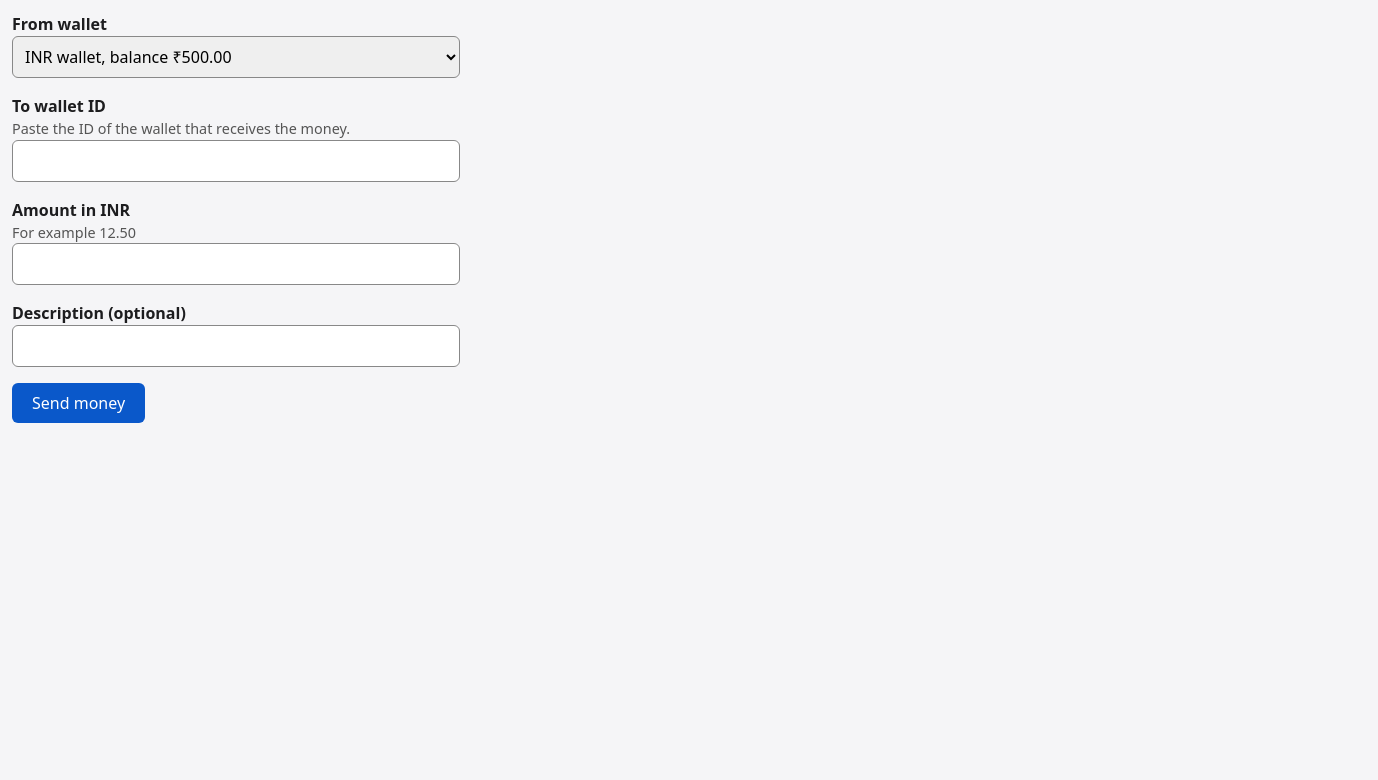
Test: TransferForm › reuses the Idempotency-Key when retrying after a network failure, and uses a new one after an answer
The width and height of the screenshot is (1378, 780).
Later steps or results of the test are not shown.
In the field labelled "To wallet ID": (236,161) [12,140,460,182], type "22222222-2222-4222-8222-222222222222"
In the field labelled "Amount in INR": (236,264) [12,243,460,285], type "12.50"
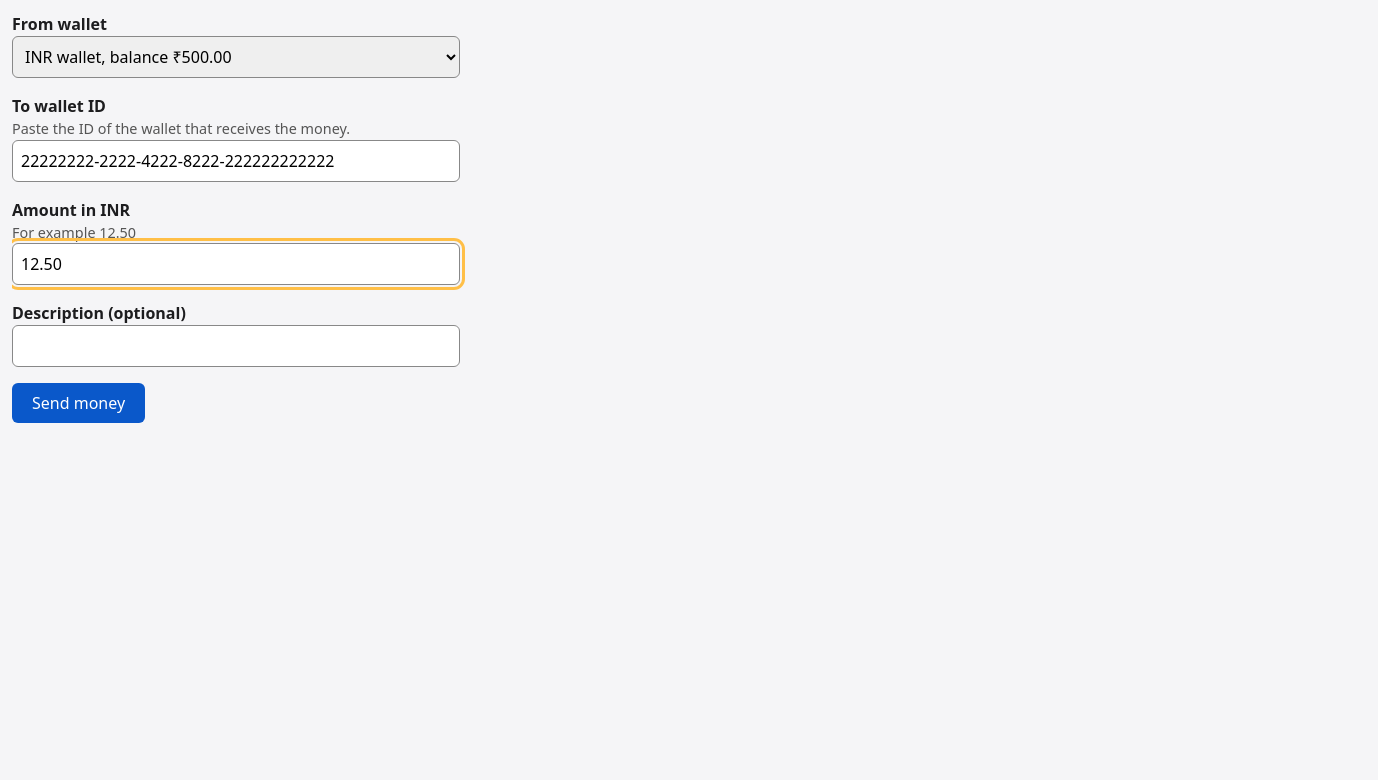
Click the button "Send money": (79,403) [12,383,145,423]
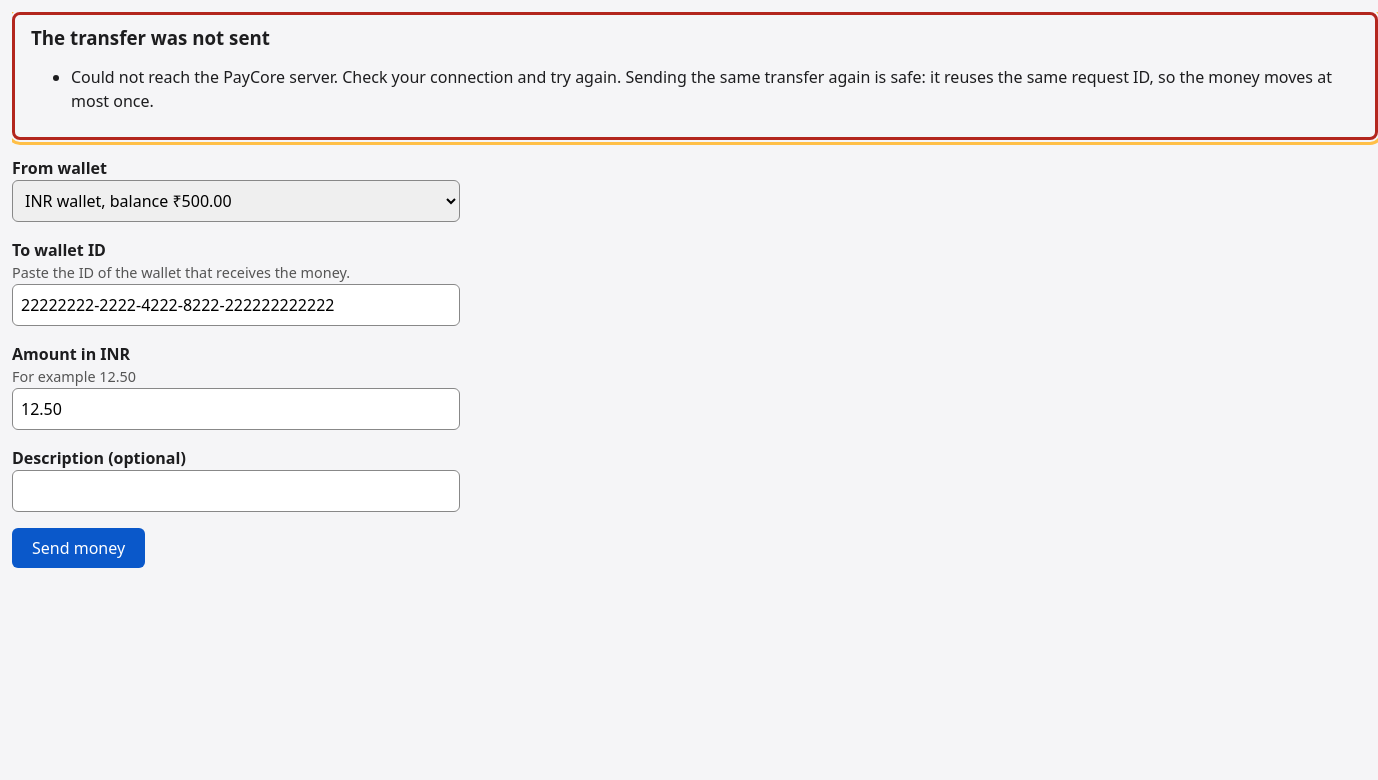
Expected: the message shows "Sending the same transfer again is safe", [71,66,1332,112]
Click the button "Send money": (79,548) [12,528,145,568]
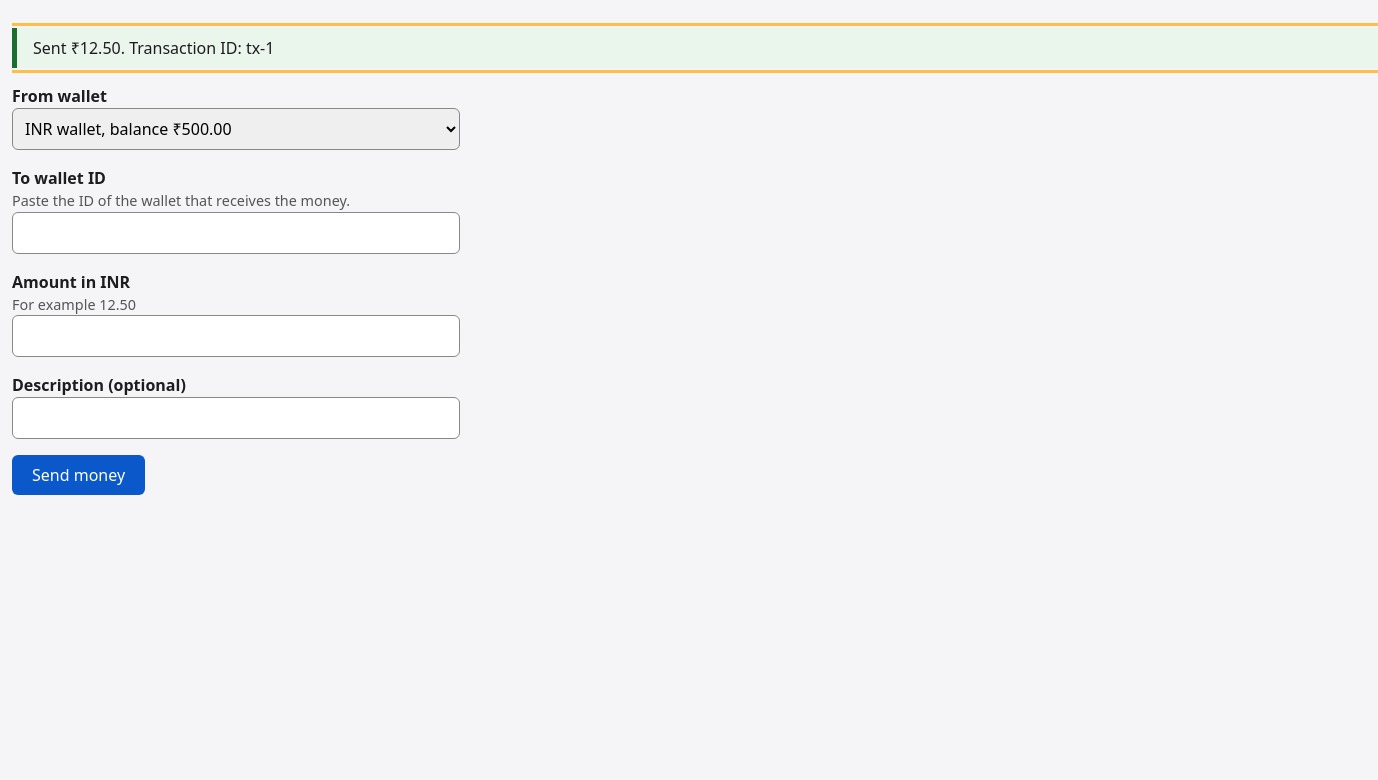
Expected: the message "Sent ₹12.50. Transaction ID: tx-1" is shown, [12,28,1377,68]
In the field labelled "To wallet ID": (236,233) [12,212,460,254], type "22222222-2222-4222-8222-222222222222"
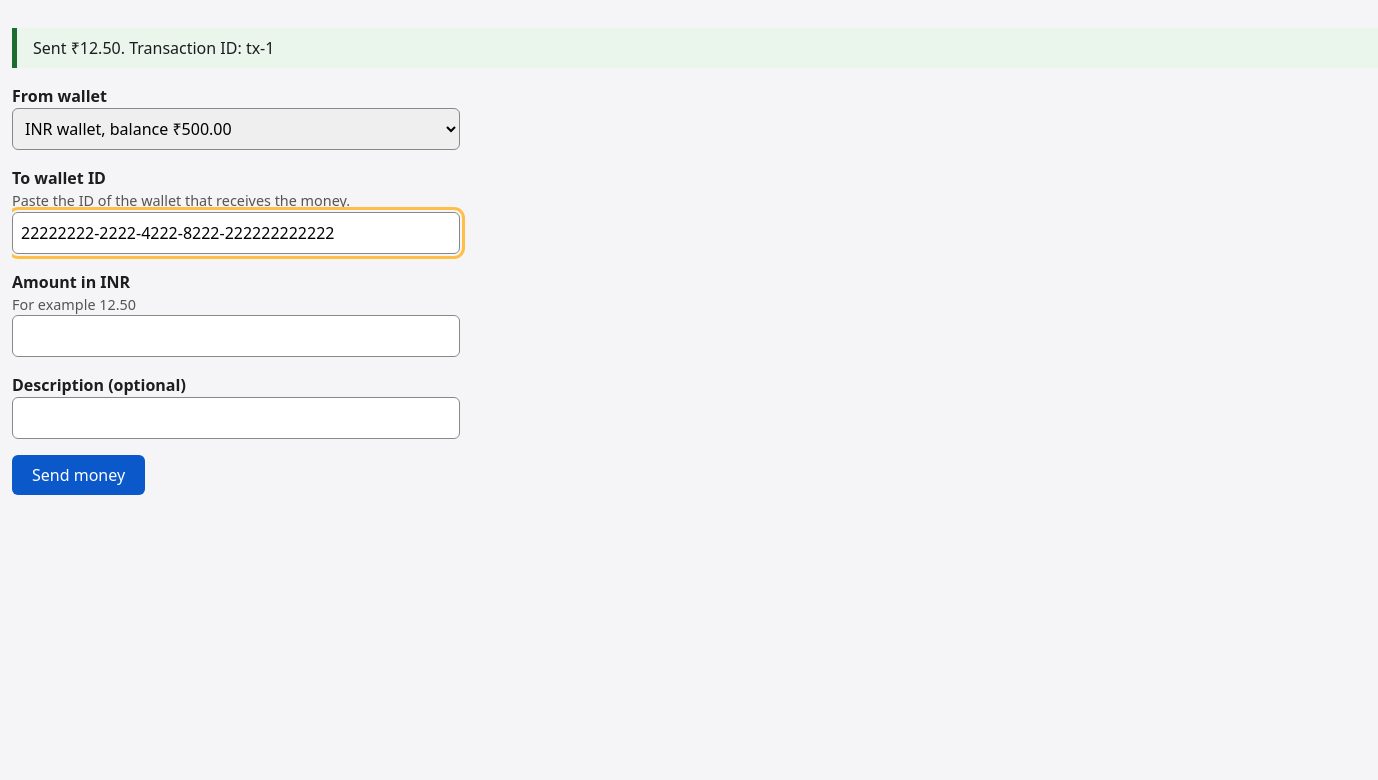
In the field labelled "Amount in INR": (236,336) [12,315,460,357], type "99"
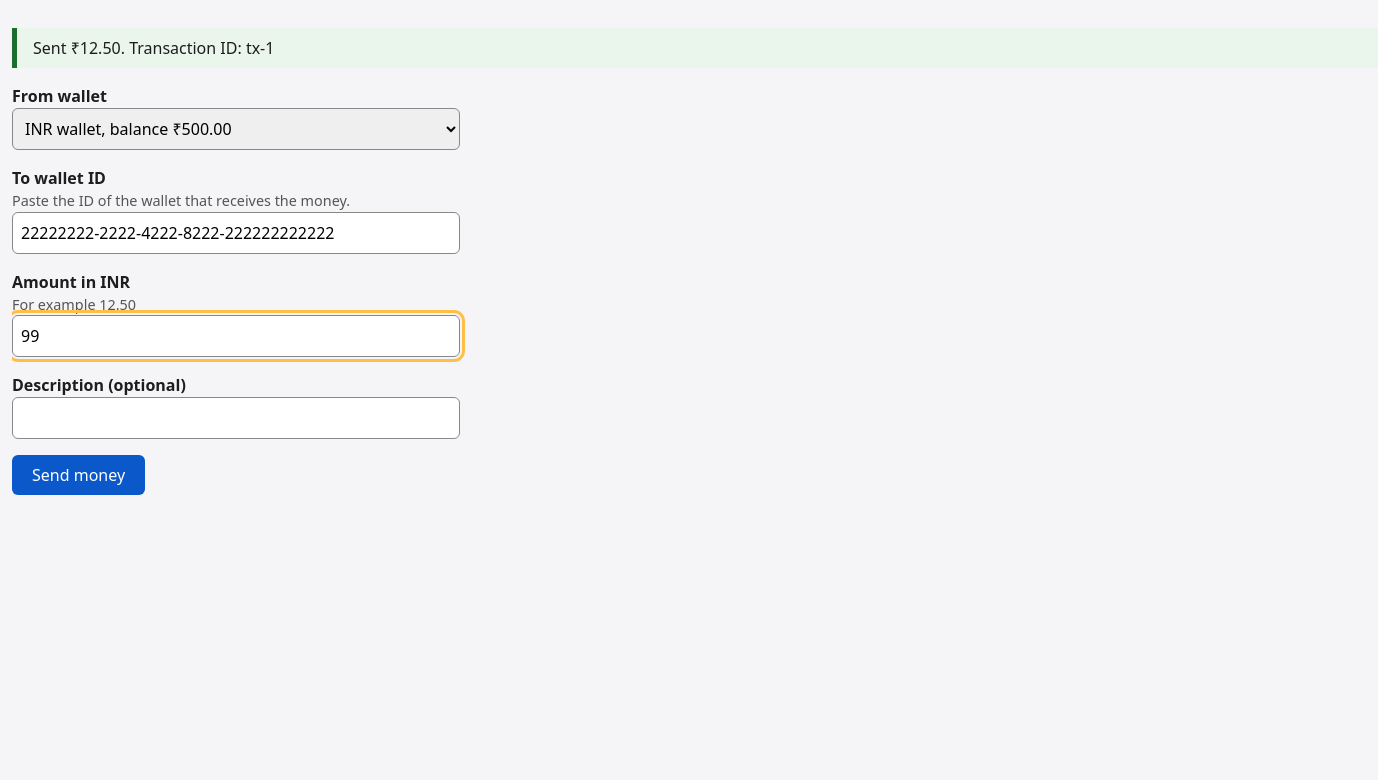
Click the button "Send money": (79,475) [12,455,145,495]
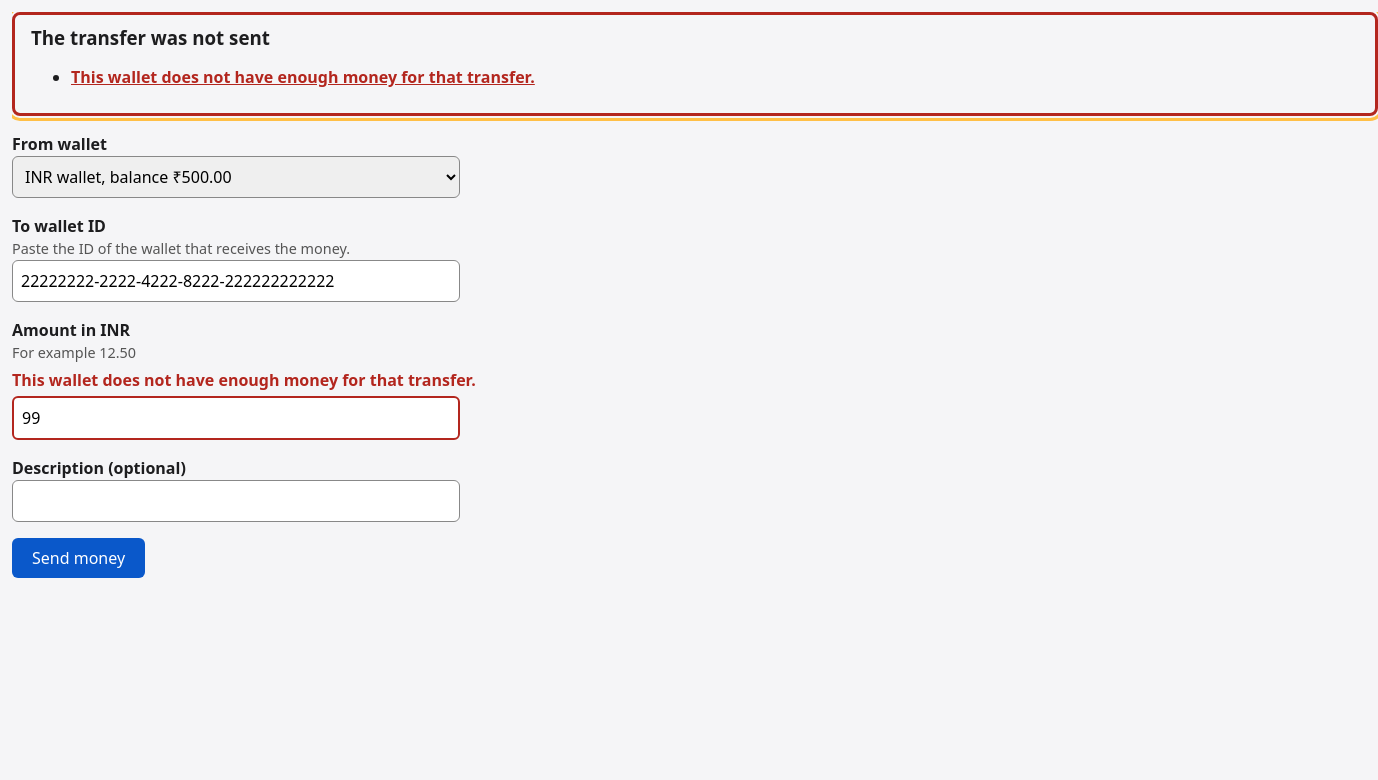
Expected: the message is shown, [12,12,1377,116]
